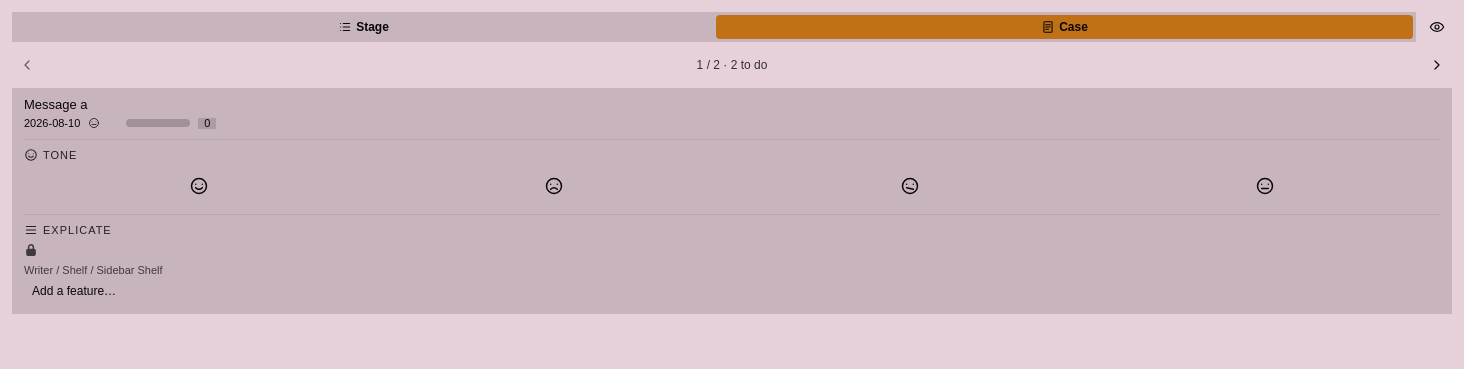
Test: validation by case › after the last case, Shift+Enter wraps to an earlier message that is still to tone
Click the button named "Next case" at (1437, 65), box [1422,50,1452,80]
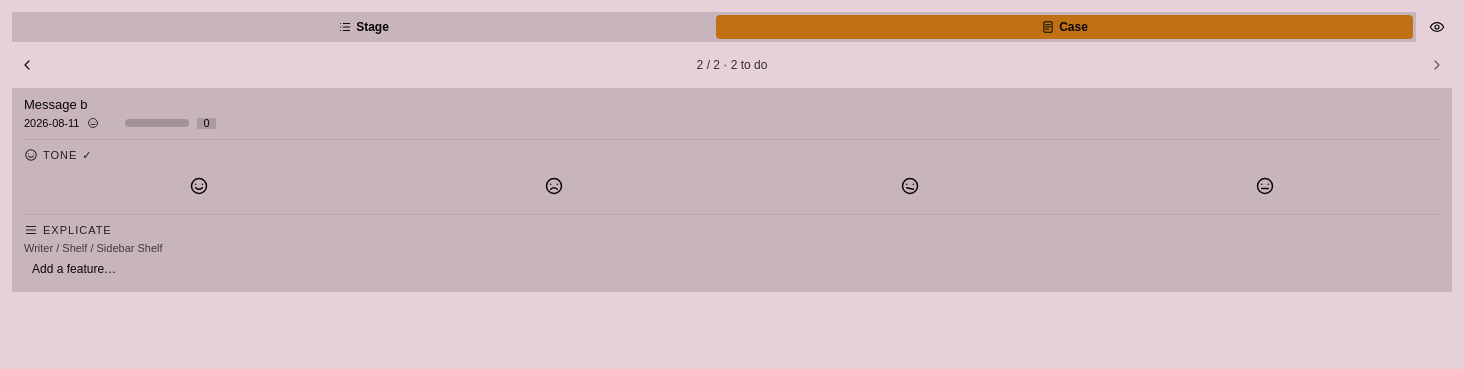
Now the text "Message b" is shown, box [24,97,88,112]
Press Enter in the dropdown named "Subject feature", box [24,256,1440,282]
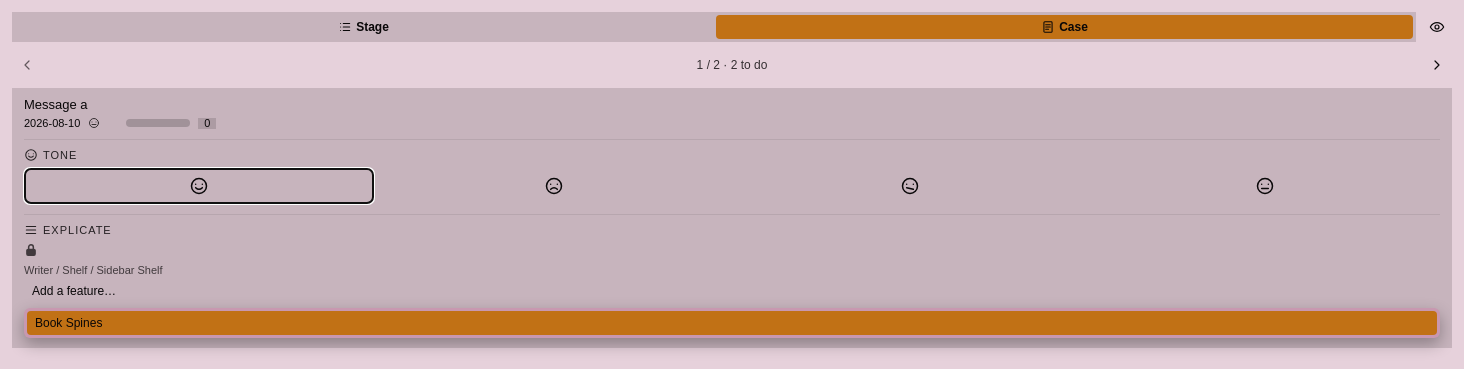
Now the text "Message a" is shown, box [24,97,88,112]
